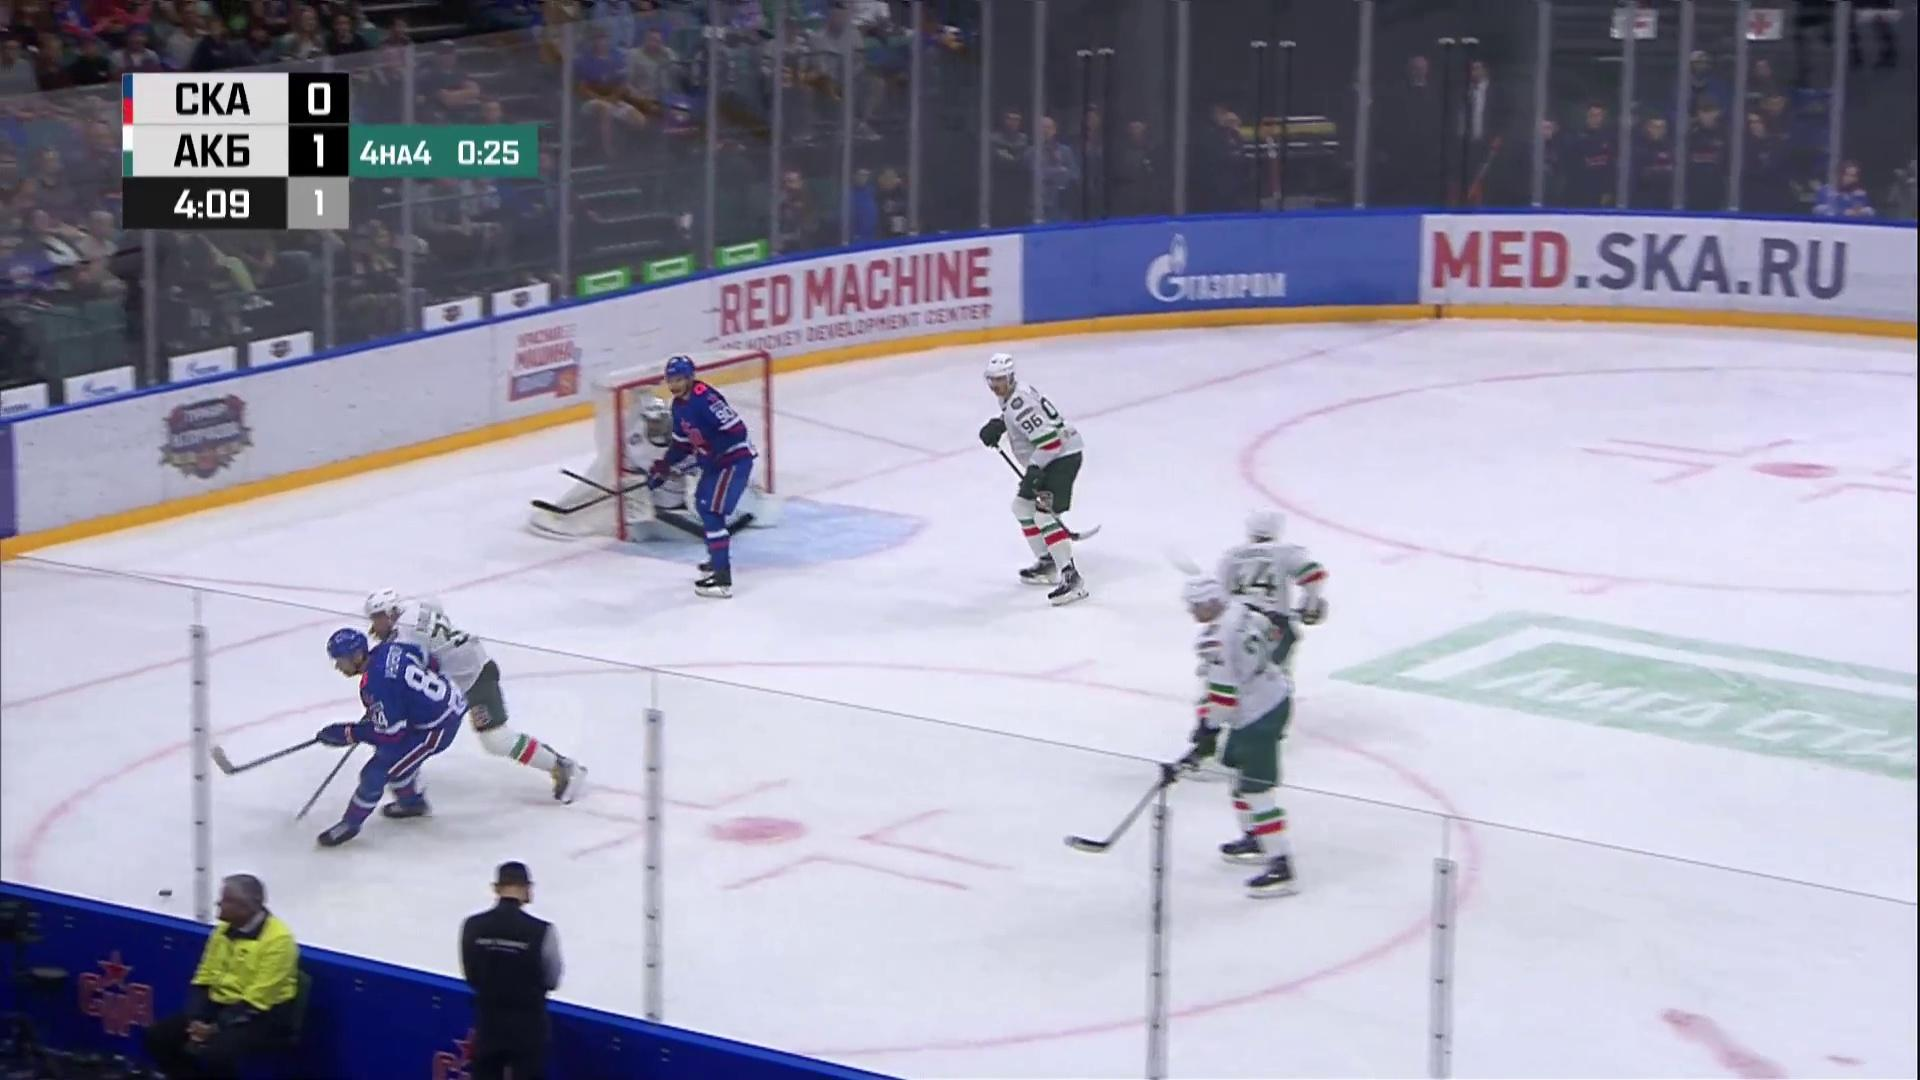ball: (158, 889, 174, 898)
